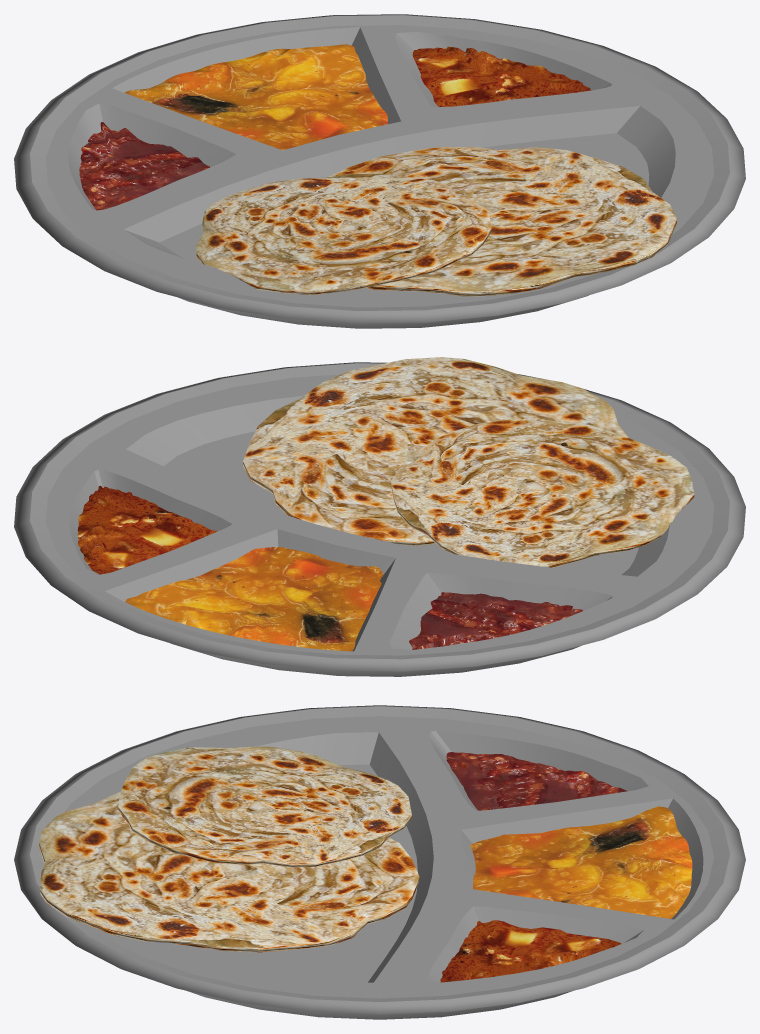
The model's file is roti-thali.glb.
3 renders of one model, top to bottom at view 1: azimuth 30°, elevation 25°; view 2: azimuth 150°, elevation 25°; view 3: azimuth 270°, elevation 25°, orthographic.
Parts seen in each view (by area): view 1: Cylinder, Cylinder.001, Cylinder.002, Cylinder.003; view 2: Cylinder, Cylinder.003, Cylinder.002, Cylinder.001; view 3: Cylinder, Cylinder.002, Cylinder.001, Cylinder.003.
Part boxes in pixels (left/top/right/bottom): Cylinder: left=14, top=14, right=745, bottom=328; Cylinder.001: left=79, top=44, right=591, bottom=210; Cylinder.002: left=328, top=147, right=676, bottom=296; Cylinder.003: left=196, top=174, right=491, bottom=294; Cylinder: left=14, top=362, right=745, bottom=676; Cylinder.003: left=391, top=418, right=694, bottom=567; Cylinder.002: left=243, top=357, right=628, bottom=546; Cylinder.001: left=77, top=485, right=582, bottom=651; Cylinder: left=14, top=705, right=745, bottom=1019; Cylinder.002: left=39, top=791, right=419, bottom=952; Cylinder.001: left=440, top=752, right=692, bottom=982; Cylinder.003: left=118, top=746, right=411, bottom=867.
Bounding box in the file's own units: 3.09 × 0.2014 × 3.09.
Materials: 5 (4 with a texture image).
